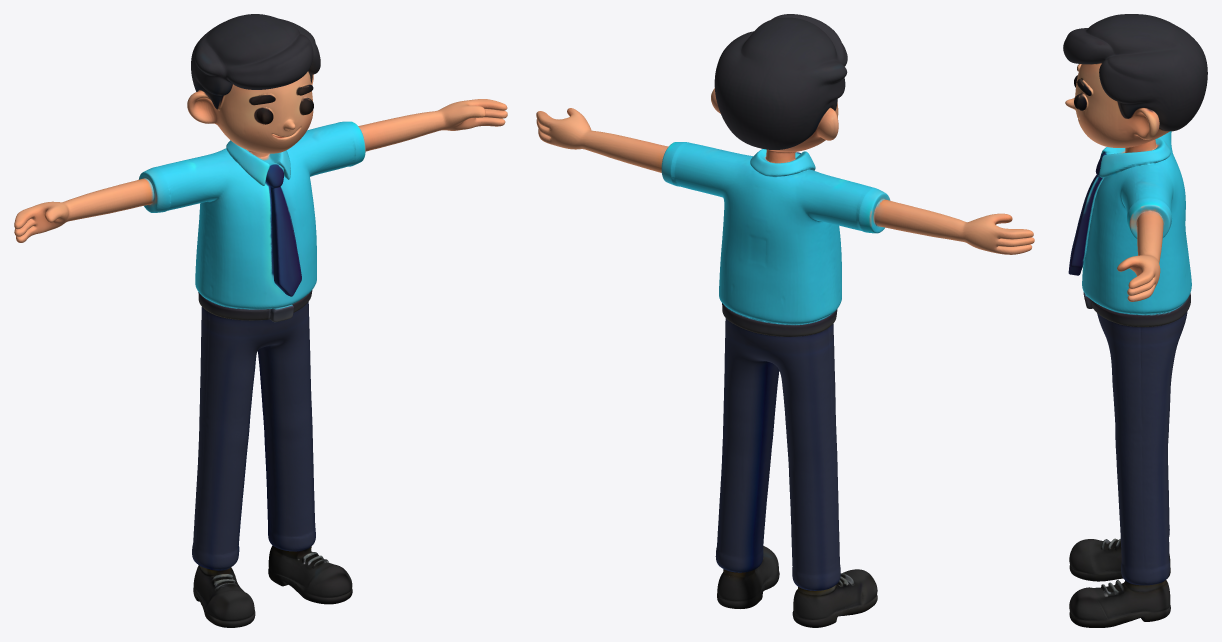
The model's file is tripo_convert_3ee9739a-5afb-4c8a-bd10-2ed5b200243b.fbx.
3 views of the same model, side by side, from view 1: azimuth 30°, elevation 25°; view 2: azimuth 150°, elevation 25°; view 3: azimuth 270°, elevation 25° (orthographic).
Visible parts, largest first — view 1: tripo_node_3ee9739a; view 2: tripo_node_3ee9739a; view 3: tripo_node_3ee9739a.
Boxes of the visible parts, box(x1,y1,x2,y2) form: tripo_node_3ee9739a: box(14, 14, 507, 627); tripo_node_3ee9739a: box(536, 14, 1034, 627); tripo_node_3ee9739a: box(1063, 14, 1207, 627).
Size of the model in its own units: 0.903 by 0.9999 by 0.2286.
1 material, 1 textured.
